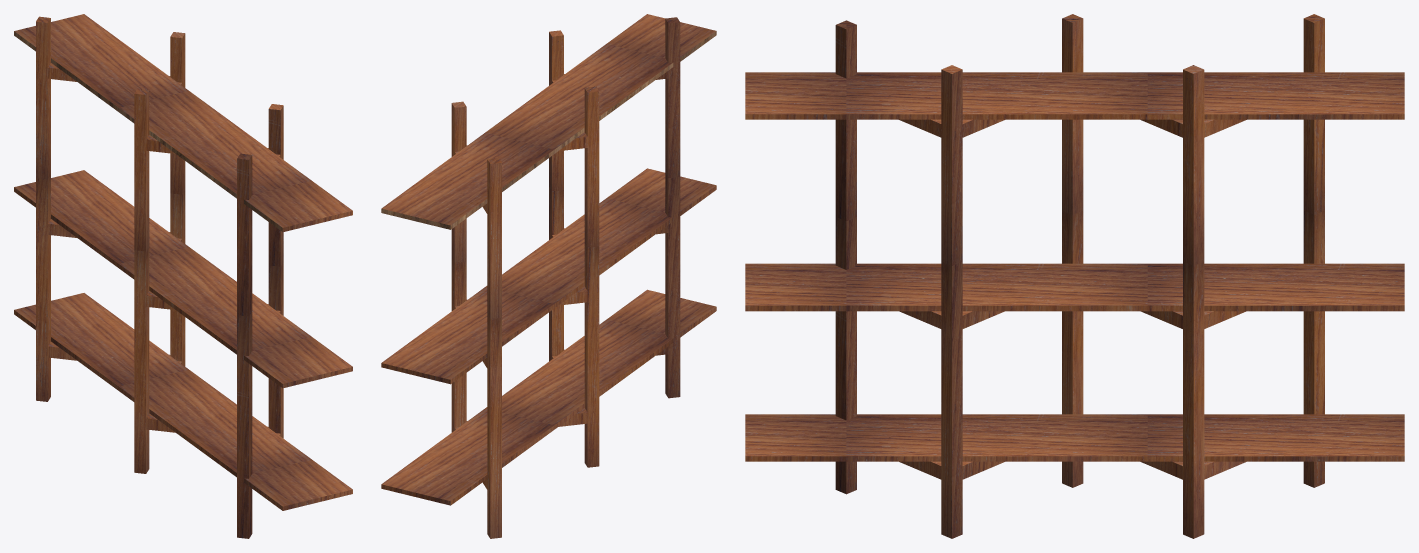
Rendered from bookcase3d-3.glb.
3 views of the same model, side by side, from view 1: azimuth 30°, elevation 25°; view 2: azimuth 150°, elevation 25°; view 3: azimuth 270°, elevation 25° (orthographic). The views are drawn at different scales.
Parts seen in each view (by area): view 1: skp4B7F; view 2: skp4B7F; view 3: skp4B7F.
Part boxes in pixels (<box>): skp4B7F: <box>14,14,352,538</box>; skp4B7F: <box>381,14,716,538</box>; skp4B7F: <box>745,14,1404,538</box>.
Size of the model in its own units: 0.4707 by 1.7 by 2.19.
2 materials, 2 textured.
